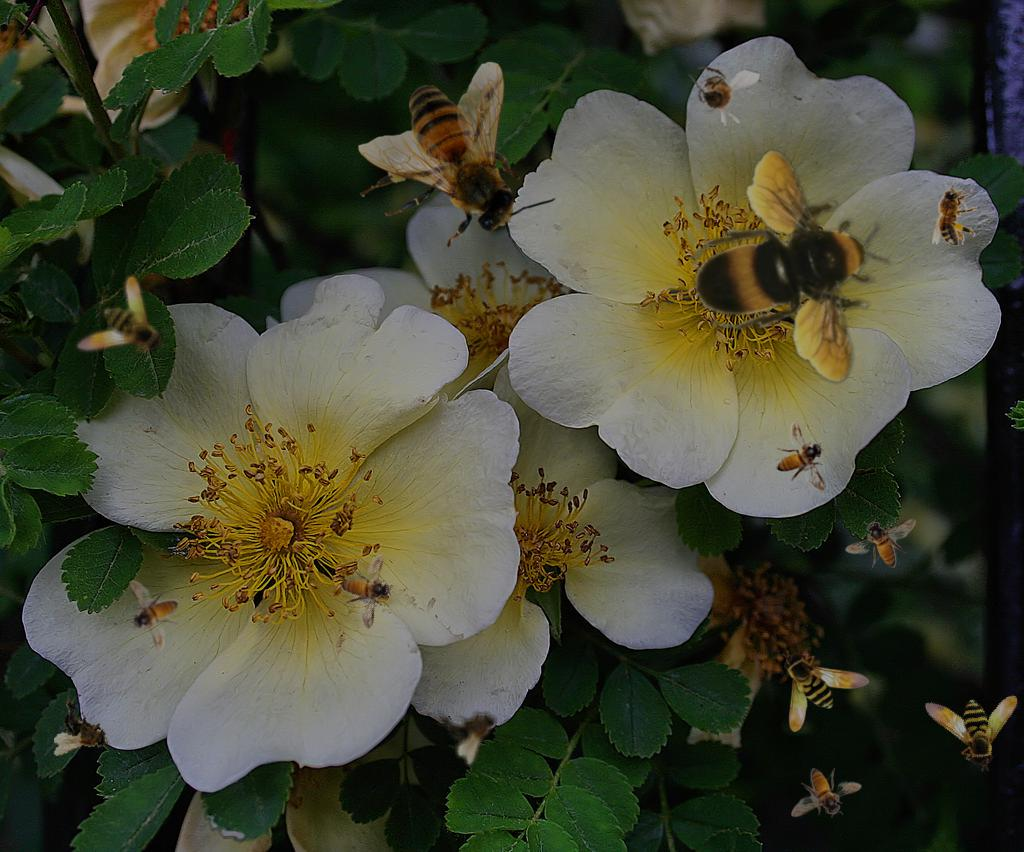Bee: (651, 129, 941, 422), (358, 61, 557, 265), (909, 659, 1024, 775), (59, 270, 169, 378), (782, 650, 870, 732), (327, 544, 409, 631), (677, 55, 762, 133), (431, 687, 510, 769), (50, 693, 117, 767), (791, 768, 862, 818), (129, 580, 179, 651), (776, 421, 826, 492), (845, 518, 916, 568), (932, 180, 977, 246)
